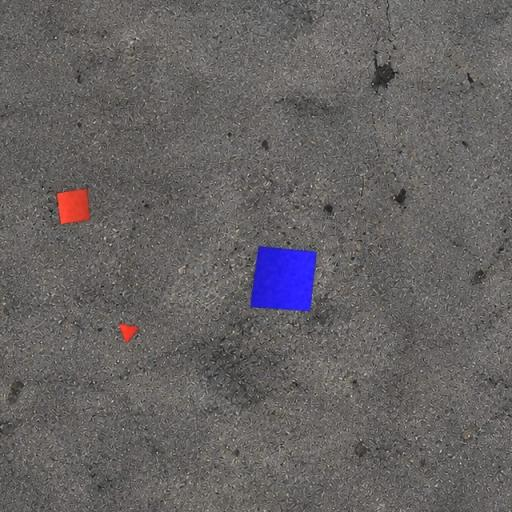BLUE_SQUARE: (248, 246, 318, 312)
RED_SQUARE: (56, 188, 90, 225)
